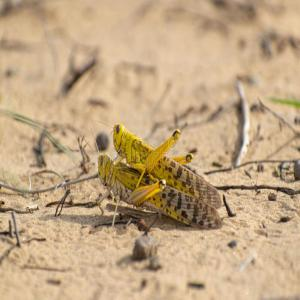locust: (86, 116, 229, 229)
